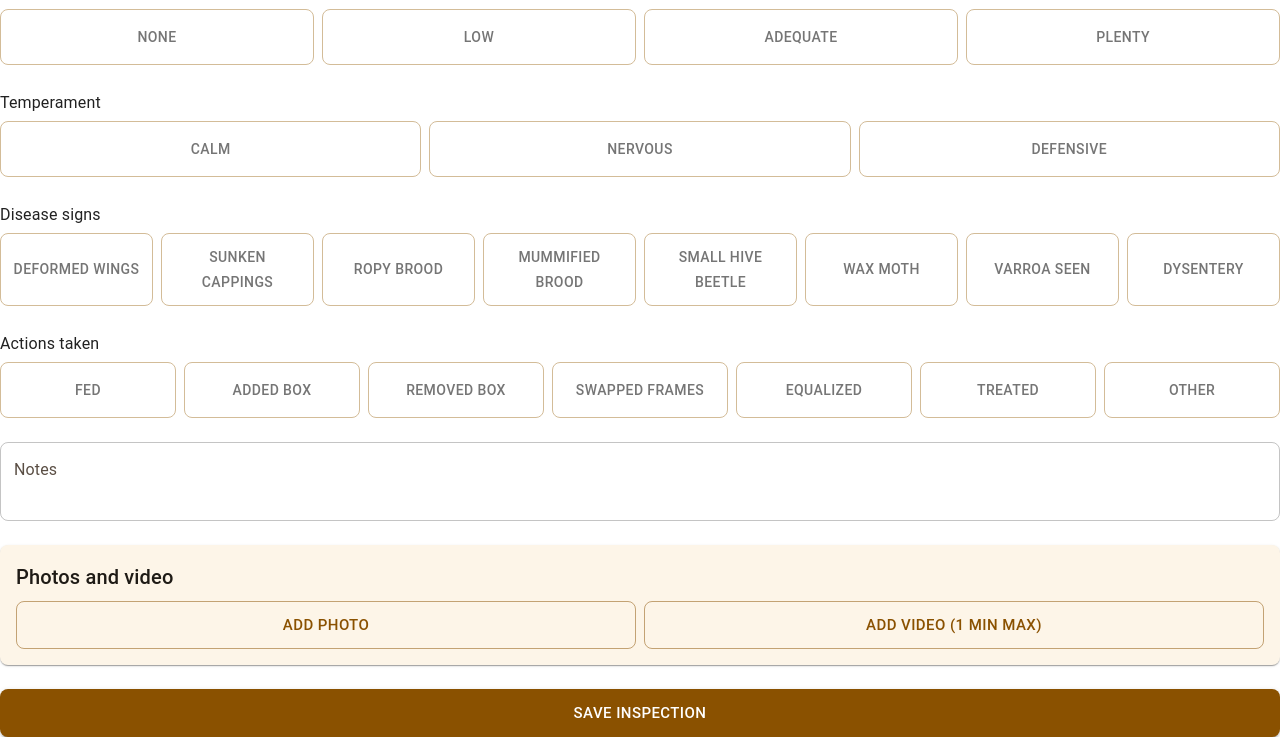
Test: CaptureScreen structured fields › should say nothing was recorded and send nothing when saved with no answer and no note
(page scrolled)
Click the button "Save inspection".
click(640, 713)  # box x1=0 y1=689 x2=1279 y2=736
(page scrolled)
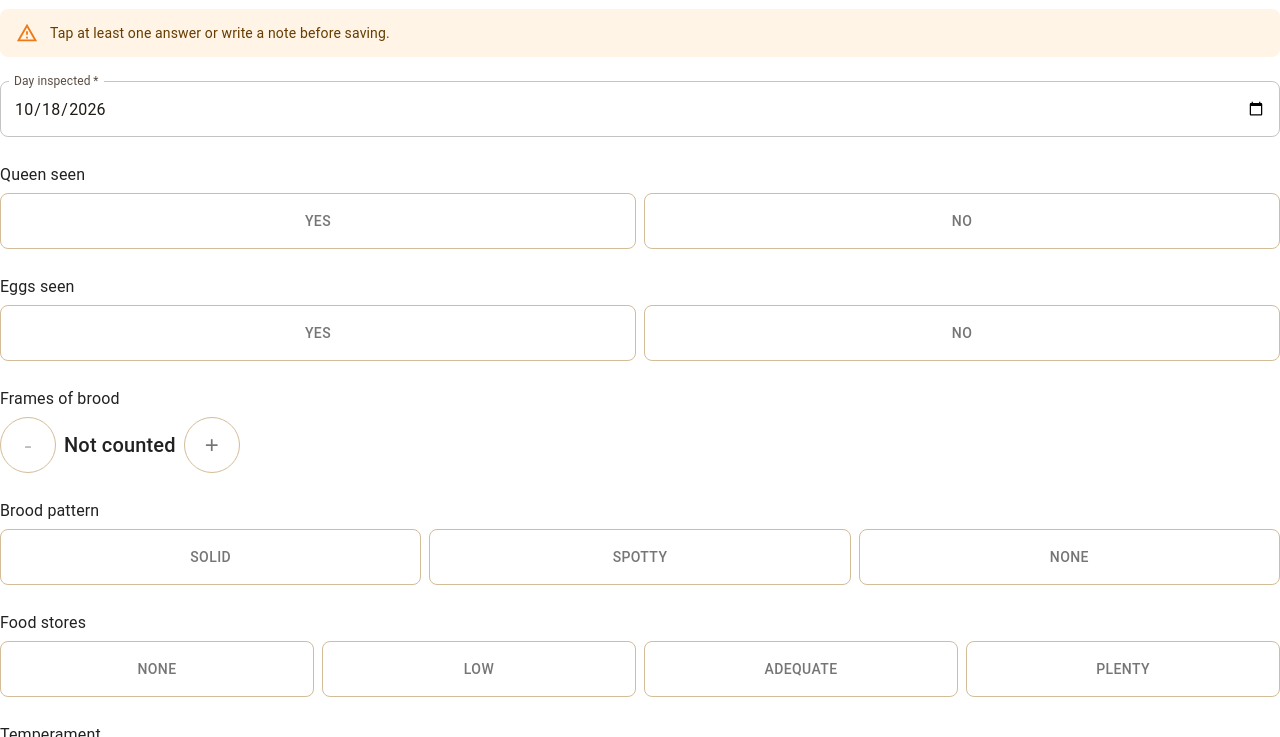
Expected: the text "Tap at least one answer or write a note before saving." is shown, x1=50 y1=25 x2=390 y2=41
